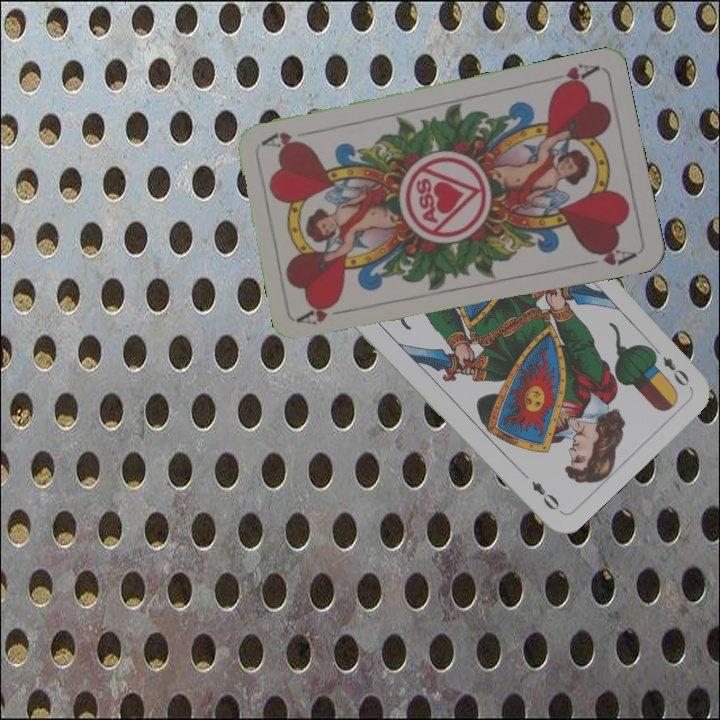EO: (647, 341, 692, 389)
HA: (542, 59, 601, 93), (296, 301, 355, 328)
